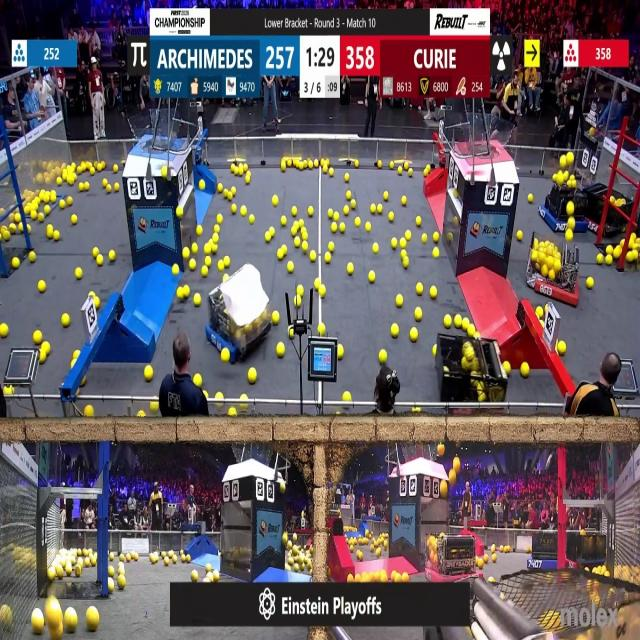ball_airborne: (441, 481, 450, 498), (454, 458, 461, 472), (438, 445, 446, 457), (566, 152, 574, 164), (449, 470, 457, 481), (560, 158, 567, 170), (163, 168, 169, 178)
ball_ground: (32, 611, 44, 636), (66, 612, 78, 636), (88, 611, 100, 632), (144, 364, 153, 380), (248, 367, 257, 382), (521, 362, 530, 376), (34, 332, 43, 346), (0, 323, 8, 337), (411, 327, 419, 341), (558, 342, 566, 356), (380, 350, 388, 364), (277, 344, 285, 358), (86, 407, 95, 419), (415, 308, 423, 321), (62, 314, 70, 327), (445, 315, 453, 328), (338, 346, 345, 360), (192, 375, 200, 387), (454, 316, 462, 328), (220, 350, 228, 362), (391, 324, 398, 337), (273, 312, 280, 325), (117, 575, 124, 588), (361, 571, 370, 581), (172, 266, 180, 277), (204, 244, 212, 255), (176, 207, 184, 218), (628, 239, 636, 250), (193, 293, 200, 305), (38, 280, 45, 292), (429, 286, 436, 298), (401, 256, 408, 268), (108, 580, 115, 592), (39, 352, 46, 364), (467, 324, 474, 336), (604, 254, 612, 264), (596, 254, 604, 264), (2, 232, 10, 242), (41, 343, 49, 353), (208, 572, 216, 582), (396, 294, 402, 307), (318, 323, 325, 334), (188, 261, 195, 272), (182, 248, 189, 259), (11, 257, 18, 268), (302, 242, 309, 253), (461, 317, 468, 328), (109, 250, 116, 261), (536, 308, 543, 319), (627, 251, 634, 262), (615, 247, 622, 258), (381, 570, 388, 581), (40, 190, 47, 201), (368, 272, 374, 284), (417, 283, 423, 295), (319, 286, 325, 298), (503, 361, 509, 373), (344, 391, 351, 401), (314, 279, 321, 289), (190, 244, 197, 254), (202, 268, 209, 278), (29, 252, 36, 262), (150, 401, 157, 411), (54, 232, 61, 242), (108, 566, 115, 576), (394, 571, 401, 581), (291, 226, 298, 236), (211, 244, 218, 254), (355, 572, 362, 582), (37, 212, 44, 222), (302, 232, 309, 242), (478, 559, 485, 569), (588, 278, 594, 289), (348, 265, 354, 276), (76, 269, 82, 280), (287, 263, 293, 274), (195, 224, 201, 235), (223, 256, 229, 267), (310, 251, 316, 262), (95, 296, 101, 307), (50, 191, 56, 202), (348, 573, 355, 582), (93, 248, 100, 257), (230, 409, 237, 418), (363, 221, 370, 230), (212, 235, 219, 244), (7, 386, 14, 395), (391, 239, 397, 249), (288, 328, 294, 338), (416, 216, 422, 226), (324, 252, 330, 262), (273, 197, 279, 207), (98, 255, 104, 265), (183, 286, 189, 296), (296, 286, 302, 296), (388, 212, 394, 222), (200, 180, 206, 190), (216, 214, 222, 224), (177, 288, 183, 298), (371, 244, 377, 254), (83, 184, 89, 194), (399, 239, 405, 249), (191, 570, 197, 580), (218, 262, 224, 272), (44, 205, 50, 215), (293, 238, 299, 248), (205, 256, 211, 266), (516, 230, 522, 240), (407, 232, 413, 242), (295, 296, 301, 306), (31, 211, 37, 221), (73, 350, 79, 360), (566, 232, 572, 242), (281, 246, 287, 256), (150, 555, 156, 565), (606, 246, 612, 256), (117, 567, 124, 575), (46, 229, 51, 240), (71, 215, 77, 224), (291, 207, 297, 216), (400, 197, 406, 206), (309, 207, 315, 216), (402, 572, 408, 581), (241, 207, 247, 216), (232, 205, 238, 214), (266, 234, 272, 243), (422, 235, 428, 244), (369, 204, 375, 213), (17, 223, 23, 232), (244, 174, 250, 183), (10, 223, 16, 232), (68, 176, 74, 185), (270, 227, 276, 236), (225, 190, 231, 199), (484, 555, 490, 564), (25, 207, 31, 216), (341, 222, 346, 232), (433, 234, 438, 244), (331, 222, 336, 232), (281, 216, 286, 226), (328, 242, 333, 252), (61, 200, 66, 210), (281, 163, 286, 173), (357, 552, 362, 562), (355, 218, 361, 226), (68, 198, 74, 206), (400, 249, 406, 257), (214, 224, 220, 232), (139, 412, 145, 420), (335, 212, 341, 220), (397, 168, 403, 176), (314, 161, 320, 169), (108, 554, 114, 562), (433, 248, 438, 257), (528, 193, 533, 202), (378, 205, 383, 214), (217, 183, 222, 192), (351, 201, 356, 210), (58, 177, 63, 186), (216, 392, 222, 399), (241, 393, 247, 400), (489, 576, 495, 583), (354, 162, 360, 169), (90, 290, 96, 297), (204, 391, 210, 398), (249, 215, 254, 223), (384, 190, 388, 200), (345, 174, 350, 182), (345, 207, 350, 215), (114, 183, 119, 191), (347, 190, 352, 198), (165, 558, 170, 566), (432, 345, 436, 355), (107, 184, 112, 192), (328, 169, 333, 177), (101, 180, 106, 188), (327, 210, 332, 218), (79, 182, 84, 190), (207, 564, 212, 572), (492, 555, 497, 563), (378, 162, 383, 170), (322, 167, 327, 175), (14, 214, 19, 222), (93, 558, 98, 566), (306, 160, 311, 168), (242, 163, 247, 171), (424, 168, 428, 177), (230, 163, 234, 172), (113, 166, 118, 173), (222, 275, 227, 282), (409, 170, 414, 177), (631, 234, 636, 241), (186, 555, 190, 563), (92, 168, 96, 176), (28, 224, 32, 232), (233, 186, 237, 194), (298, 219, 302, 227), (377, 550, 381, 558), (406, 160, 410, 168), (449, 234, 453, 242), (81, 378, 85, 386), (554, 174, 558, 182), (387, 161, 391, 168), (119, 555, 123, 562), (99, 162, 103, 168)
goal: (460, 119, 518, 158), (129, 116, 186, 151)
robot_blue: (204, 284, 269, 366), (540, 172, 589, 233)
robot_red: (436, 339, 508, 416), (527, 240, 577, 304), (427, 532, 479, 583)
